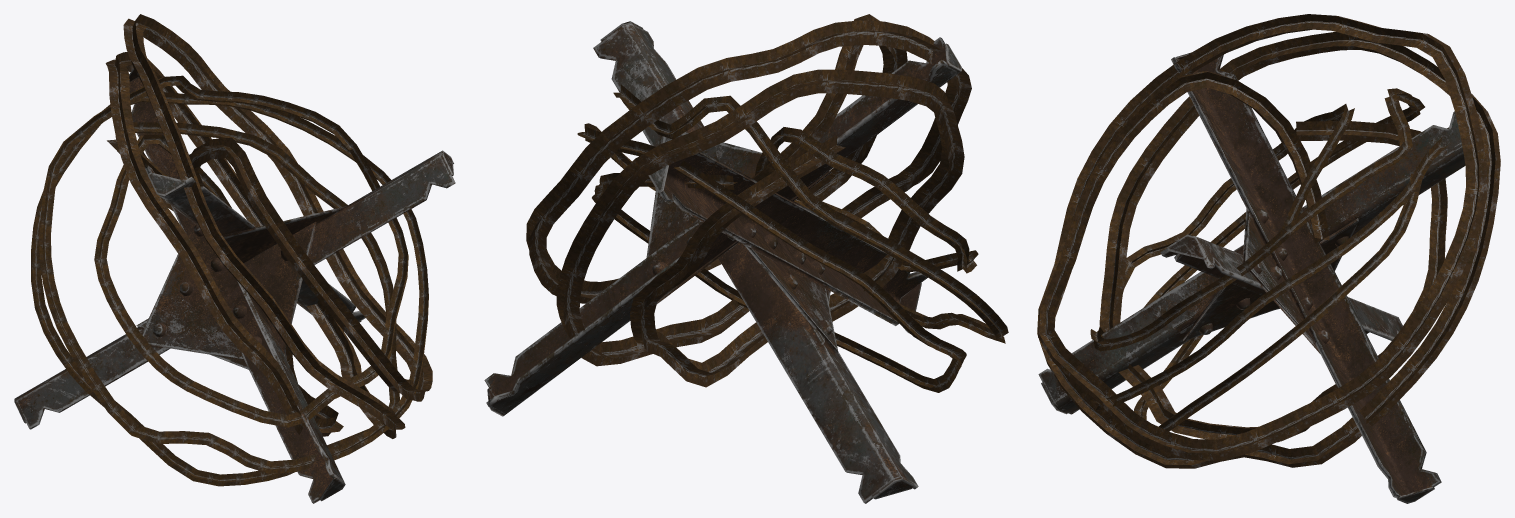
The model's file is Metal_Obstacles_01.FBX.
The picture shows the model from 3 angles, left to right: view 1: azimuth 30°, elevation 25°; view 2: azimuth 150°, elevation 25°; view 3: azimuth 270°, elevation 25°; orthographic projection. The views are drawn at different scales.
Visible parts, largest first — view 1: Metal_Obstacles_wire_01, Metal_Obstacles_01; view 2: Metal_Obstacles_wire_01, Metal_Obstacles_01; view 3: Metal_Obstacles_wire_01, Metal_Obstacles_01.
Part boxes in pixels (x1,y1,x2,y2): Metal_Obstacles_wire_01: (31, 14, 432, 486); Metal_Obstacles_01: (14, 68, 455, 503); Metal_Obstacles_wire_01: (526, 14, 1008, 392); Metal_Obstacles_01: (484, 21, 961, 503); Metal_Obstacles_wire_01: (1037, 14, 1500, 468); Metal_Obstacles_01: (1038, 52, 1465, 503).
Size of the model in its own units: 202 by 194 by 215.
